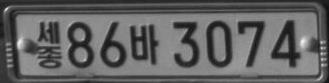0: (205, 19, 233, 68)
3: (172, 20, 200, 68)
4: (270, 19, 301, 68)
6: (98, 20, 127, 67)
7: (237, 19, 265, 67)
8: (66, 20, 95, 68)
바: (129, 23, 159, 65)
세종_V: (35, 20, 62, 69)
